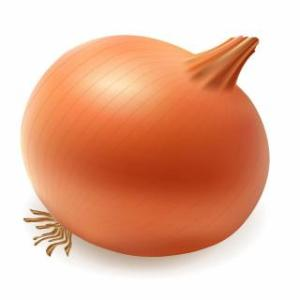onion: (20, 36, 272, 260)
